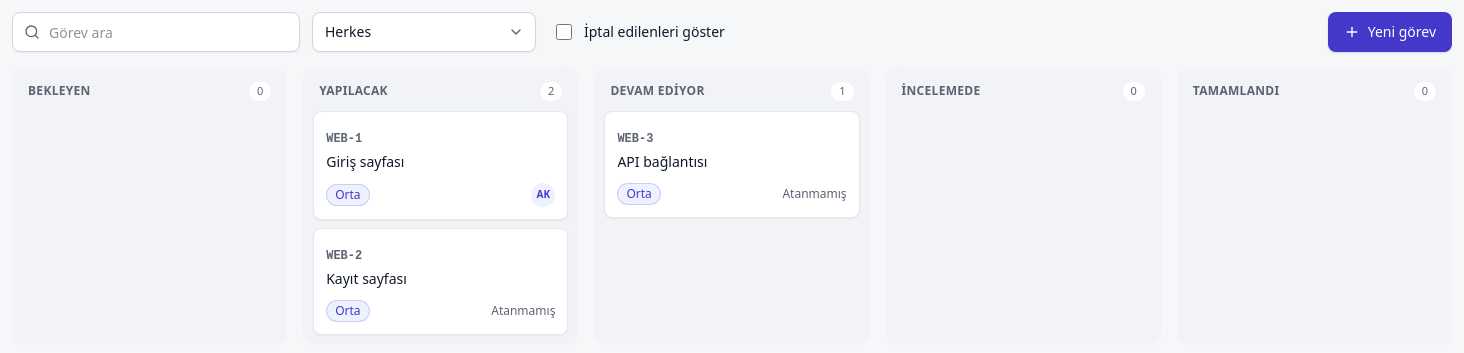
Test: TaskBoard › filters by assignee and by text
Expected: the text "Giriş sayfası" is shown, [326,152,404,171]
Select "Bana atananlar" in the dropdown named "Atanan kişiye göre filtrele" at (424, 32), box [312,12,536,52]
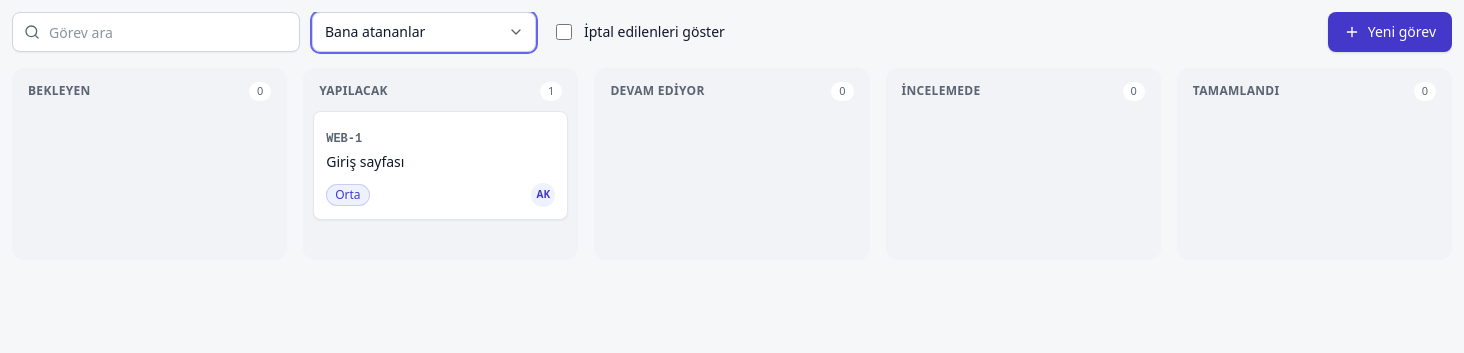
Result: the button "Kayıt sayfası" is gone
Select "Herkes" in the dropdown named "Atanan kişiye göre filtrele" at (424, 32), box [312,12,536,52]
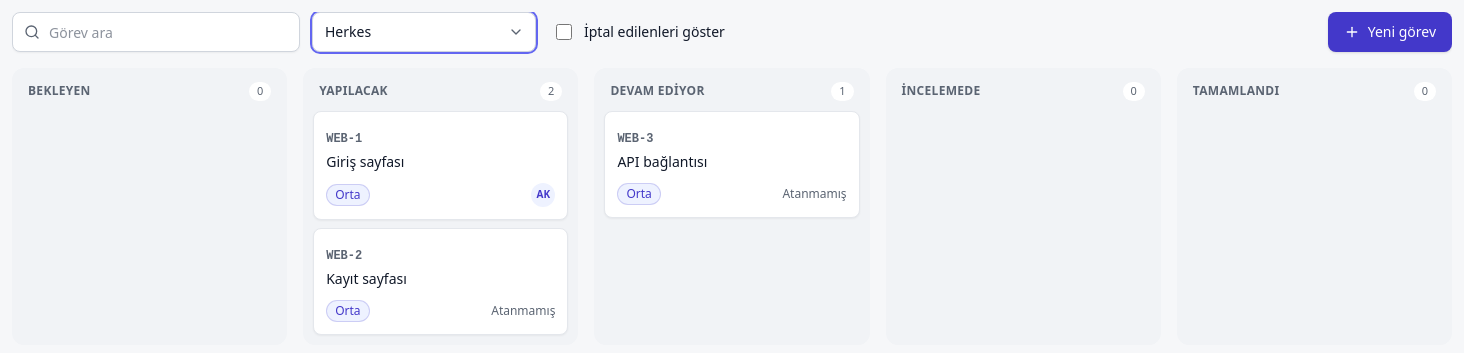
Type "web-3" into the search field labelled "Görev ara" at (156, 32), box [12,12,300,52]
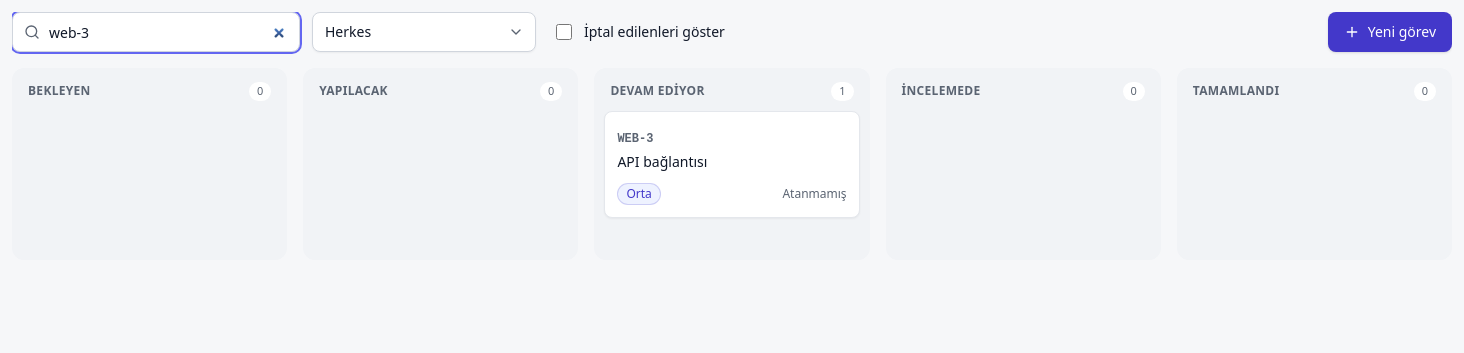
Result: the text "API bağlantısı" is shown at [617,152,707,171]
Result: the button "Giriş sayfası" is gone
